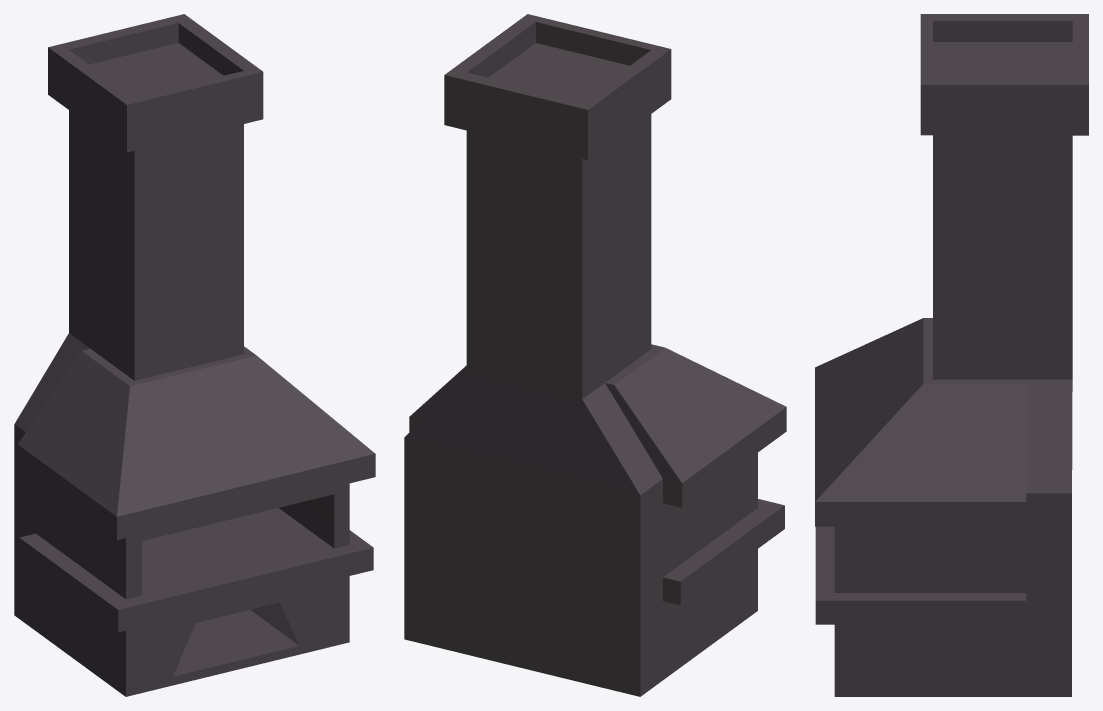
Rendered from Chimney.fbx.
3 views of the same model, side by side, from view 1: azimuth 30°, elevation 25°; view 2: azimuth 150°, elevation 25°; view 3: azimuth 270°, elevation 25° (orthographic). The views are drawn at different scales.
Parts seen in each view (by area): view 1: Chiney; view 2: Chiney; view 3: Chiney.
Boxes of the visible parts, x1=… form: Chiney: x1=14, y1=14, x2=375, y2=696; Chiney: x1=404, y1=14, x2=786, y2=696; Chiney: x1=815, y1=14, x2=1088, y2=696.
Bounding box in the file's own units: 178 × 364 × 153.
1 material, 1 textured.
